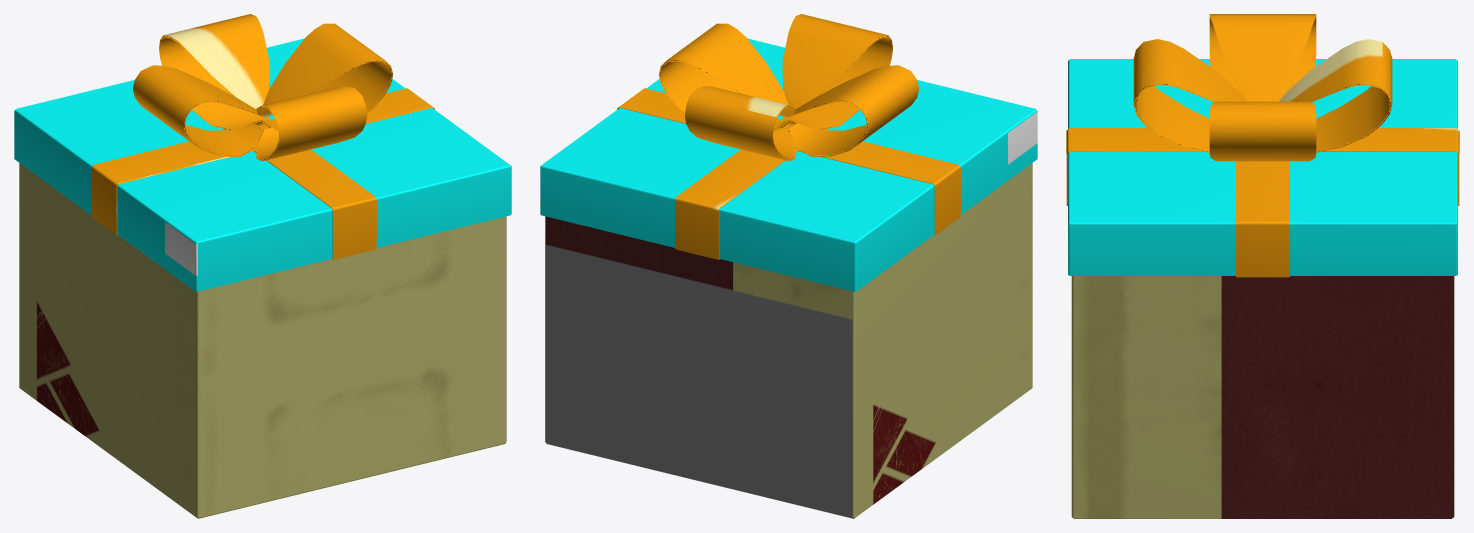
Rendered from giftbox.fbx.
The picture shows the model from 3 angles, left to right: view 1: azimuth 30°, elevation 25°; view 2: azimuth 150°, elevation 25°; view 3: azimuth 270°, elevation 25°; orthographic projection. The views are drawn at different scales.
Visible parts, largest first — view 1: SK_GiftBox.002, SK_GiftBox.001, SK_GiftBox; view 2: SK_GiftBox.002, SK_GiftBox.001, SK_GiftBox; view 3: SK_GiftBox.002, SK_GiftBox.001, SK_GiftBox.
Boxes of the visible parts, x1=… form: SK_GiftBox.002: x1=19, y1=163, x2=506, y2=518; SK_GiftBox.001: x1=14, y1=38, x2=511, y2=291; SK_GiftBox: x1=91, y1=14, x2=434, y2=259; SK_GiftBox.002: x1=545, y1=163, x2=1032, y2=518; SK_GiftBox.001: x1=540, y1=38, x2=1037, y2=291; SK_GiftBox: x1=617, y1=14, x2=960, y2=259; SK_GiftBox.002: x1=1071, y1=276, x2=1454, y2=518; SK_GiftBox.001: x1=1068, y1=59, x2=1457, y2=275; SK_GiftBox: x1=1066, y1=14, x2=1459, y2=277.
Size of the model in its own units: 188 by 200 by 188.
